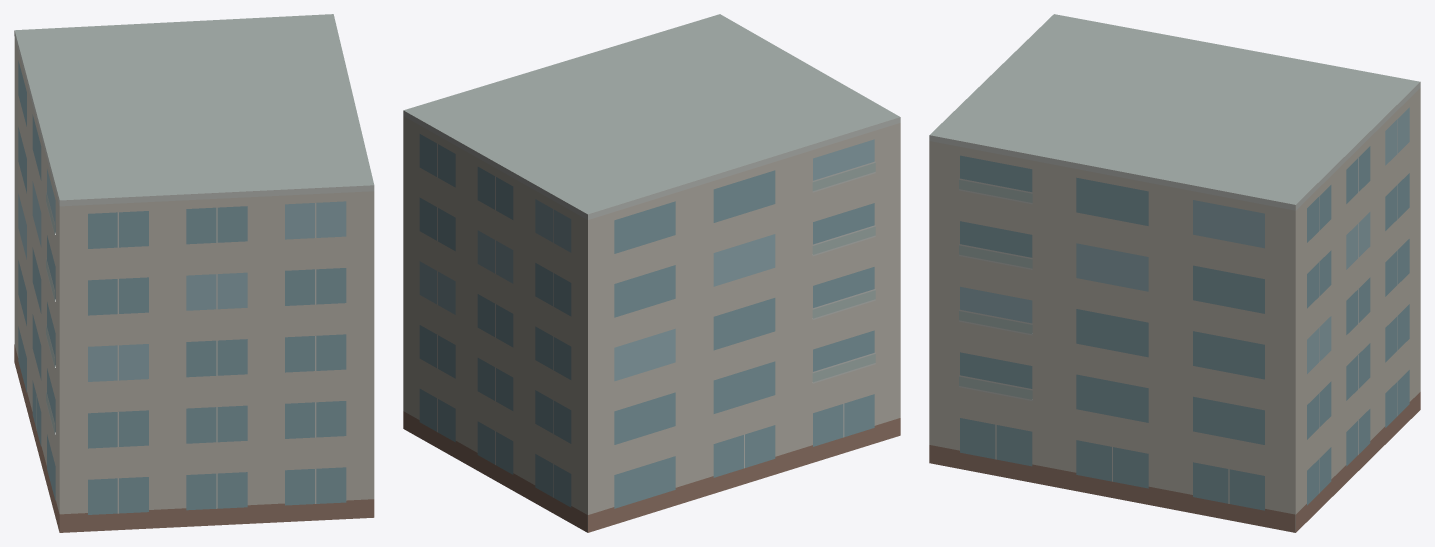
Rendered from survey-upis-32532369.glb.
3 views of the same model, side by side, from view 1: azimuth 30°, elevation 25°; view 2: azimuth 150°, elevation 25°; view 3: azimuth 270°, elevation 25° (orthographic). The views are drawn at different scales.
Parts seen in each view (by area): view 1: survey-upis-32532369.tmp; view 2: survey-upis-32532369.tmp; view 3: survey-upis-32532369.tmp.
Part boxes in pixels (<box>): survey-upis-32532369.tmp: <box>14,14,374,532</box>; survey-upis-32532369.tmp: <box>403,14,900,532</box>; survey-upis-32532369.tmp: <box>929,14,1420,532</box>.
Bounding box in the file's own units: 17.04 × 13.64 × 18.52.
